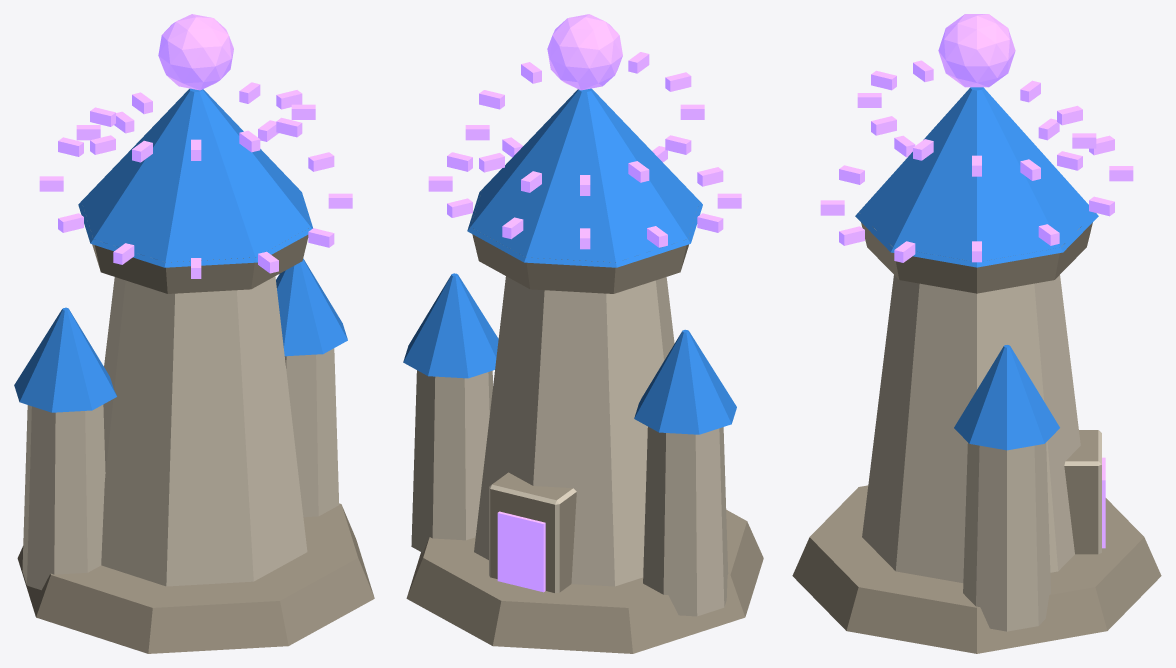
The model's file is castle-tower.glb.
3 renders of one model, left to right at view 1: azimuth 30°, elevation 25°; view 2: azimuth 150°, elevation 25°; view 3: azimuth 270°, elevation 25°, orthographic.
Visible parts, largest first — view 1: Castle_Tower; view 2: Castle_Tower; view 3: Castle_Tower.
Boxes of the visible parts, x1=… form: Castle_Tower: x1=14, y1=14, x2=374, y2=653; Castle_Tower: x1=403, y1=14, x2=763, y2=653; Castle_Tower: x1=792, y1=14, x2=1161, y2=653.
Bounding box in the file's own units: 4.34 × 7.2 × 4.3.
